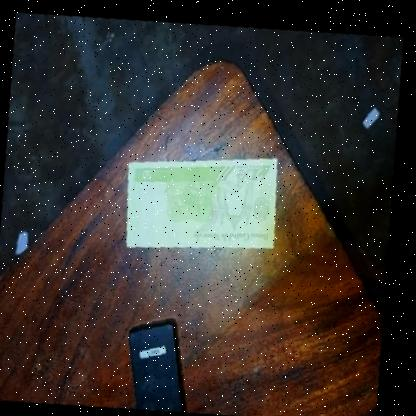fifty-back-vef: (118, 135, 290, 265)
